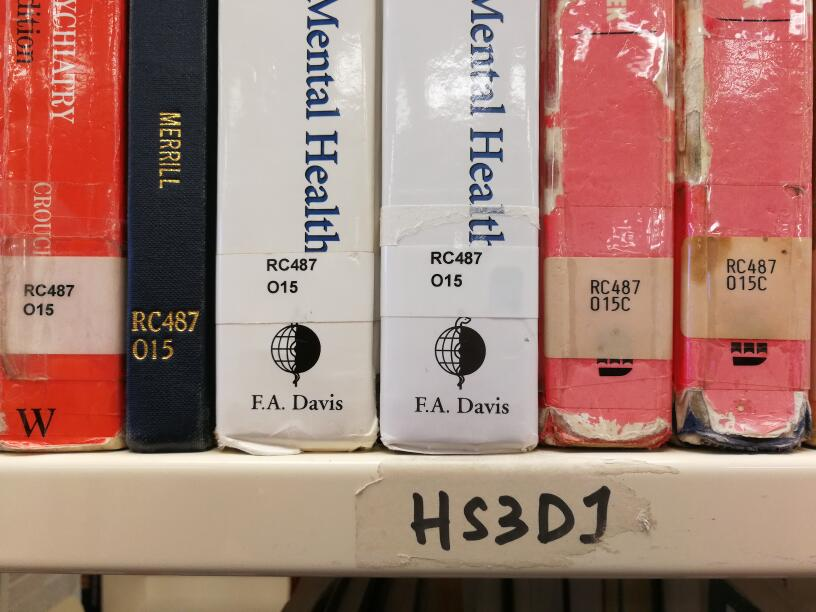booklabel: (128, 308, 203, 362), (429, 249, 484, 288), (264, 257, 318, 294), (587, 277, 642, 311), (22, 281, 74, 316), (725, 257, 777, 291)
